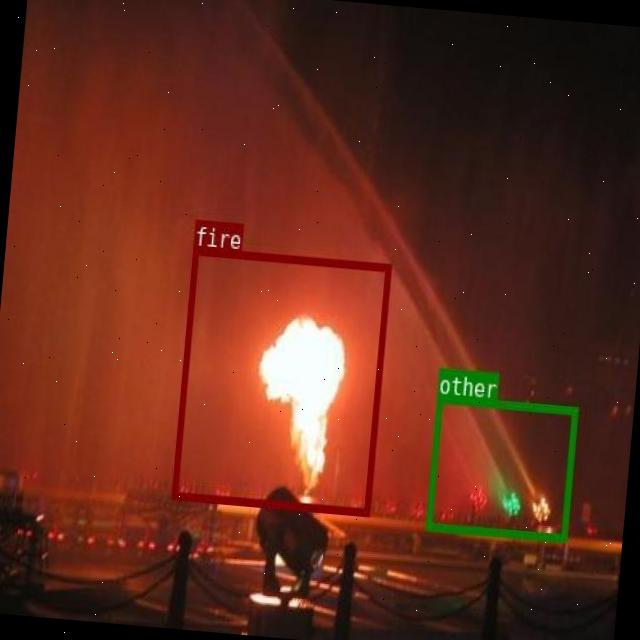fire: (171, 246, 390, 515)
